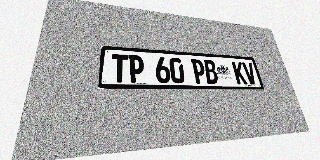0: (169, 57, 185, 83)
6: (155, 57, 171, 83)
B: (203, 60, 219, 84)
K: (232, 61, 248, 84)
P: (128, 55, 144, 83), (191, 59, 207, 84)
T: (111, 54, 128, 83)
V: (242, 62, 258, 84)
